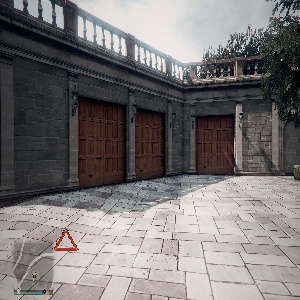triangle: (51, 227, 81, 255)
